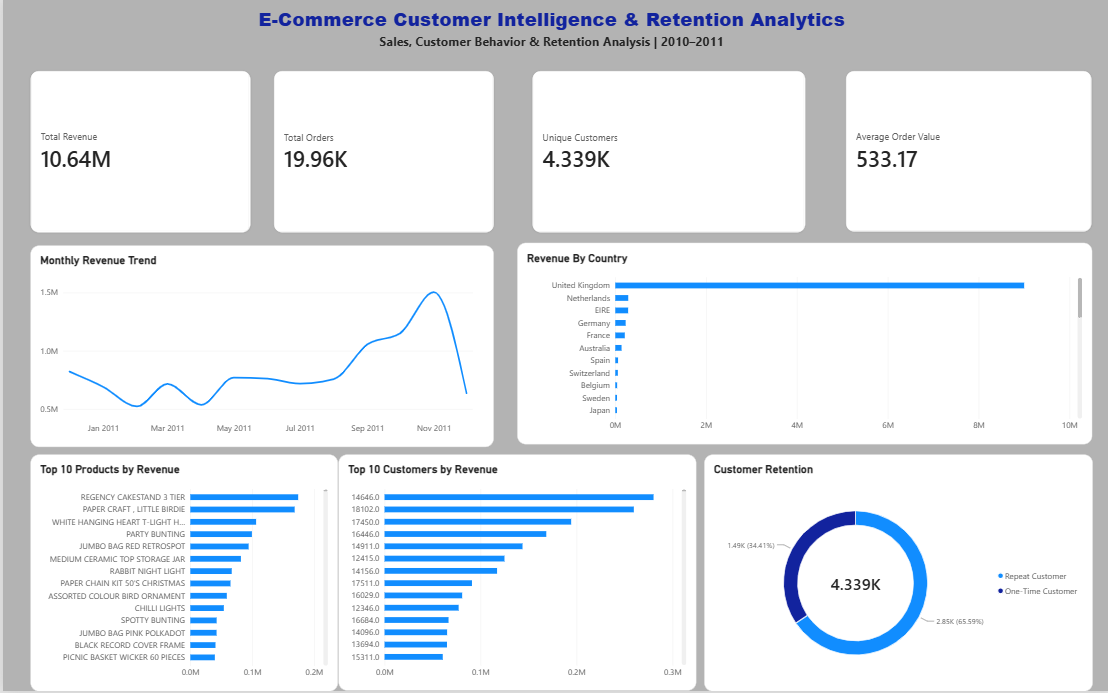

The page's visual inventory and layout, read from the dashboard file:
{"tool":"powerbi","page":{"name":"Page 1","canvas":[1920,1200],"ordinal":0},"visuals":[{"type":"cardVisual","fields":{"Data":["Sum(ecommerce_analytics online_retail.Revenue)"]},"box":[47.5,125,380.7,279.9],"z":0},{"type":"cardVisual","fields":{"Data":["Count(ecommerce_analytics online_retail.InvoiceNo)"]},"box":[470,125,381,280],"z":1000},{"type":"cardVisual","fields":{"Data":["Count(ecommerce_analytics online_retail.CustomerID)"]},"box":[917.5,125,472.5,280],"z":2000},{"type":"cardVisual","fields":{"Data":["ecommerce_analytics online_retail.Average Order Value"]},"box":[1460,125,425.5,278.9],"z":3000},{"type":"lineChart","title":"Monthly Revenue Trend ","fields":{"Category":["ecommerce_analytics online_retail.InvoiceDate.Variation.Date Hierarchy.Year","ecommerce_analytics online_retail.InvoiceDate.Variation.Date Hierarchy.Month"],"Y":["Sum(ecommerce_analytics online_retail.Revenue)"]},"box":[47.5,427.5,802.2,348.9],"z":4000},{"type":"barChart","title":"Top 10 Products by Revenue ","fields":{"Category":["ecommerce_analytics online_retail.Description"],"Y":["Sum(ecommerce_analytics online_retail.Revenue)"]},"box":[47.5,790,532.5,410],"z":5000},{"type":"barChart","title":"Top 10 Customers by Revenue","fields":{"Category":["ecommerce_analytics online_retail.CustomerID"],"Y":["Sum(ecommerce_analytics online_retail.Revenue)"]},"box":[580,790,619.7,409],"z":6000},{"type":"barChart","title":"Revenue By Country","fields":{"Category":["ecommerce_analytics online_retail.Country"],"Y":["Sum(ecommerce_analytics online_retail.Revenue)"]},"box":[891.1,424.4,995.6,348.9],"z":7000},{"type":"donutChart","title":"Customer Retention","fields":{"Category":["ecommerce_analytics online_retail.Customer Type"],"Y":["Count(ecommerce_analytics online_retail.CustomerID)"]},"box":[1215,790,672.5,410],"z":8000},{"type":"textbox","box":[48.7,15.4,1805.1,92.3],"z":9000}]}

Visuals, with their boxes in screenshot pixels (x1, y1, x2, y2), scaled from the page's 1920x1200 canvas onto the 1108x693 screenshot:
cardVisual - Sum(ecommerce_analytics online_retail.Revenue): detection(27, 72, 247, 234)
cardVisual - Count(ecommerce_analytics online_retail.InvoiceNo): detection(271, 72, 491, 234)
cardVisual - Count(ecommerce_analytics online_retail.CustomerID): detection(529, 72, 802, 234)
cardVisual - ecommerce_analytics online_retail.Average Order Value: detection(843, 72, 1088, 233)
"Monthly Revenue Trend " lineChart: detection(27, 247, 490, 448)
"Top 10 Products by Revenue " barChart: detection(27, 456, 335, 692)
"Top 10 Customers by Revenue" barChart: detection(335, 456, 692, 692)
"Revenue By Country" barChart: detection(514, 245, 1089, 447)
"Customer Retention" donutChart: detection(701, 456, 1089, 692)
textbox: detection(28, 9, 1070, 62)
